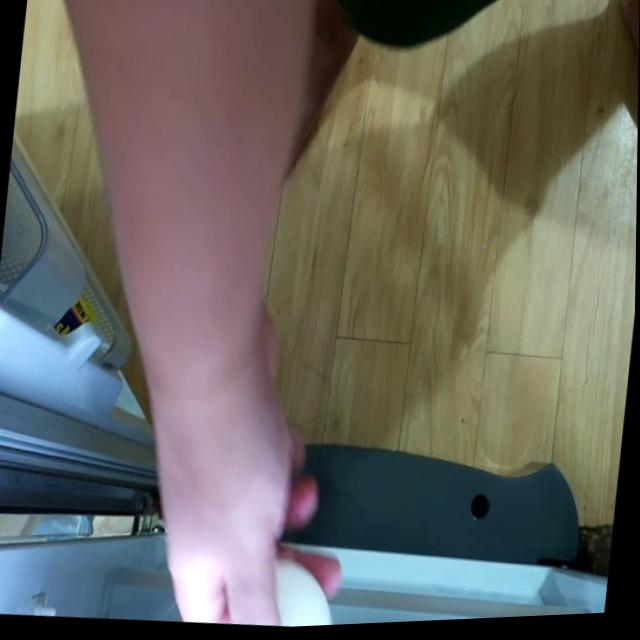egg: (265, 562, 337, 631)
